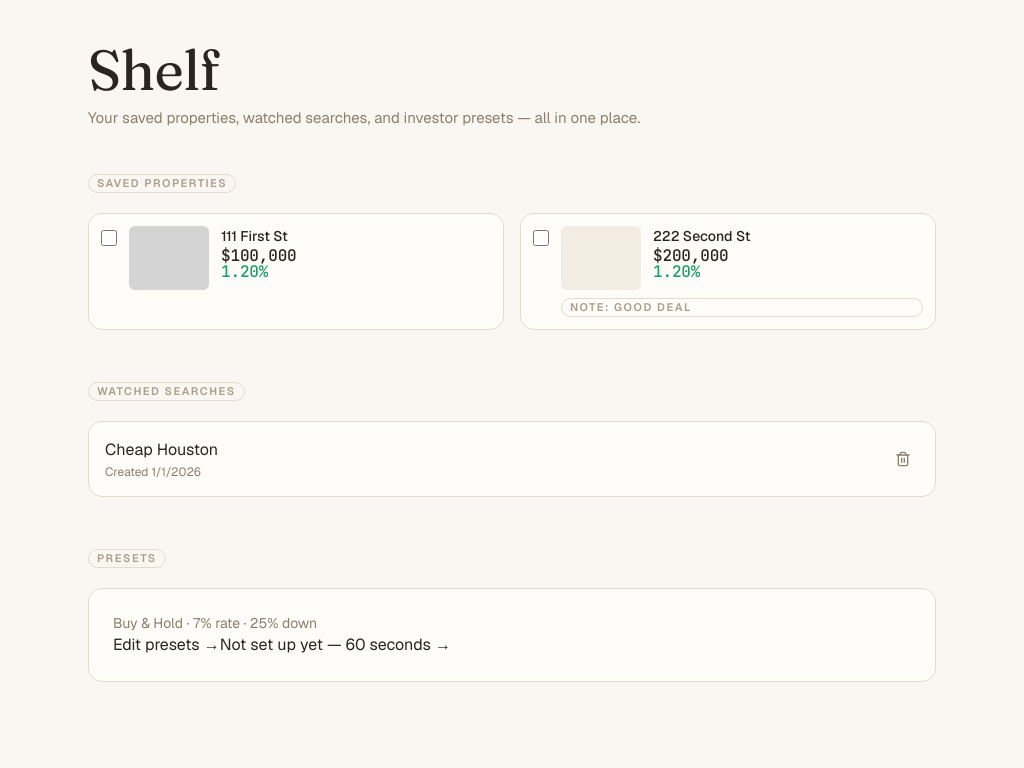
it: ShelfPage › shows sticky bar with Remove (no compare link) for a single selected save
Check: the text "111 First St" is shown, box [221,226,296,246]
What coordinates should you click on to do the following:
click the checkbox named "Select 111 First St"
I would click on:
 (109, 238)
Its box is [101,230,117,246].
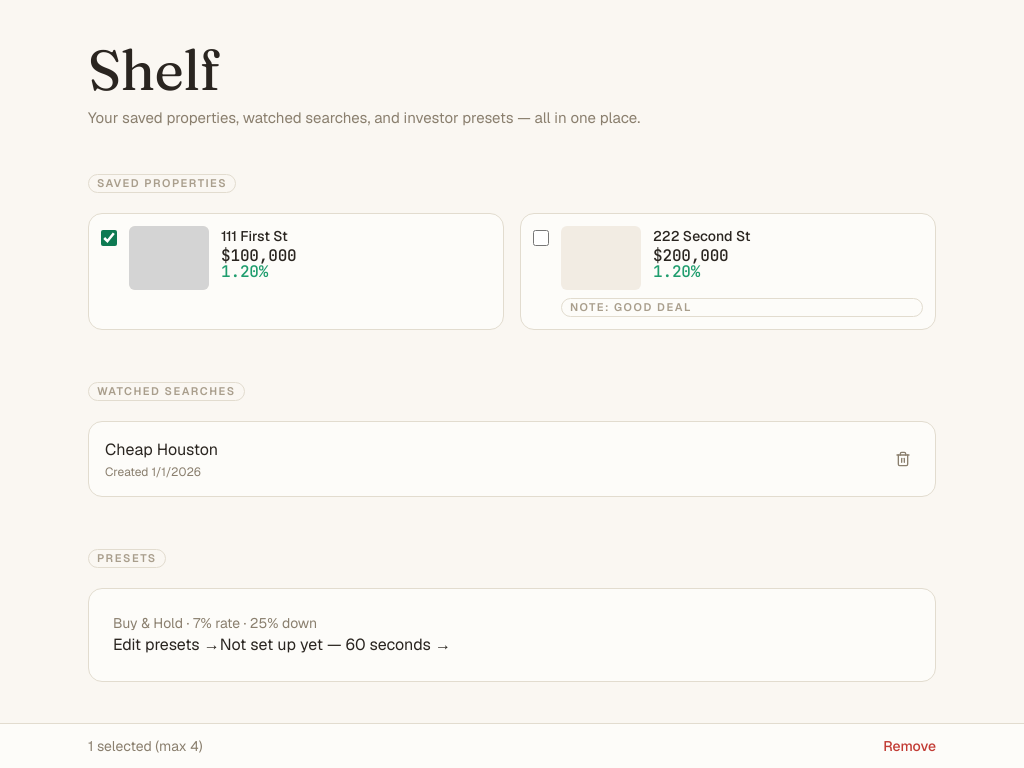
Check: the button "Remove" is shown, box [883,736,936,756]
